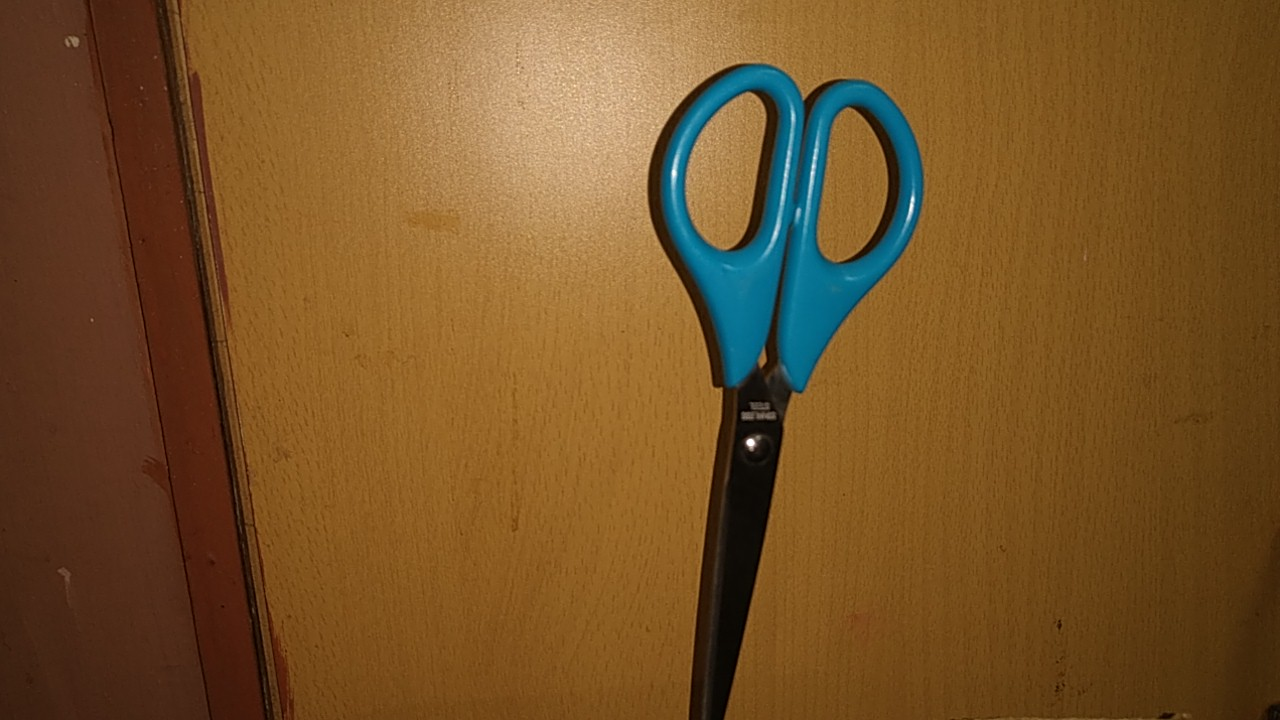scissor: (633, 50, 936, 720)
